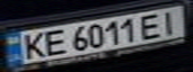0: (87, 21, 106, 50)
1: (118, 16, 142, 43), (103, 19, 124, 45)
6: (69, 24, 90, 52)
E: (136, 11, 169, 39), (39, 27, 69, 57)
I: (154, 8, 187, 35)
K: (15, 29, 51, 61)
